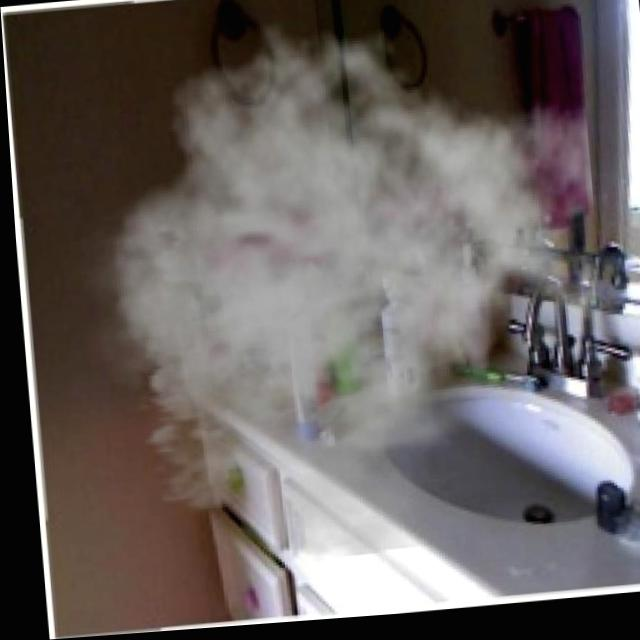no_helmet: (40, 0, 612, 582)
